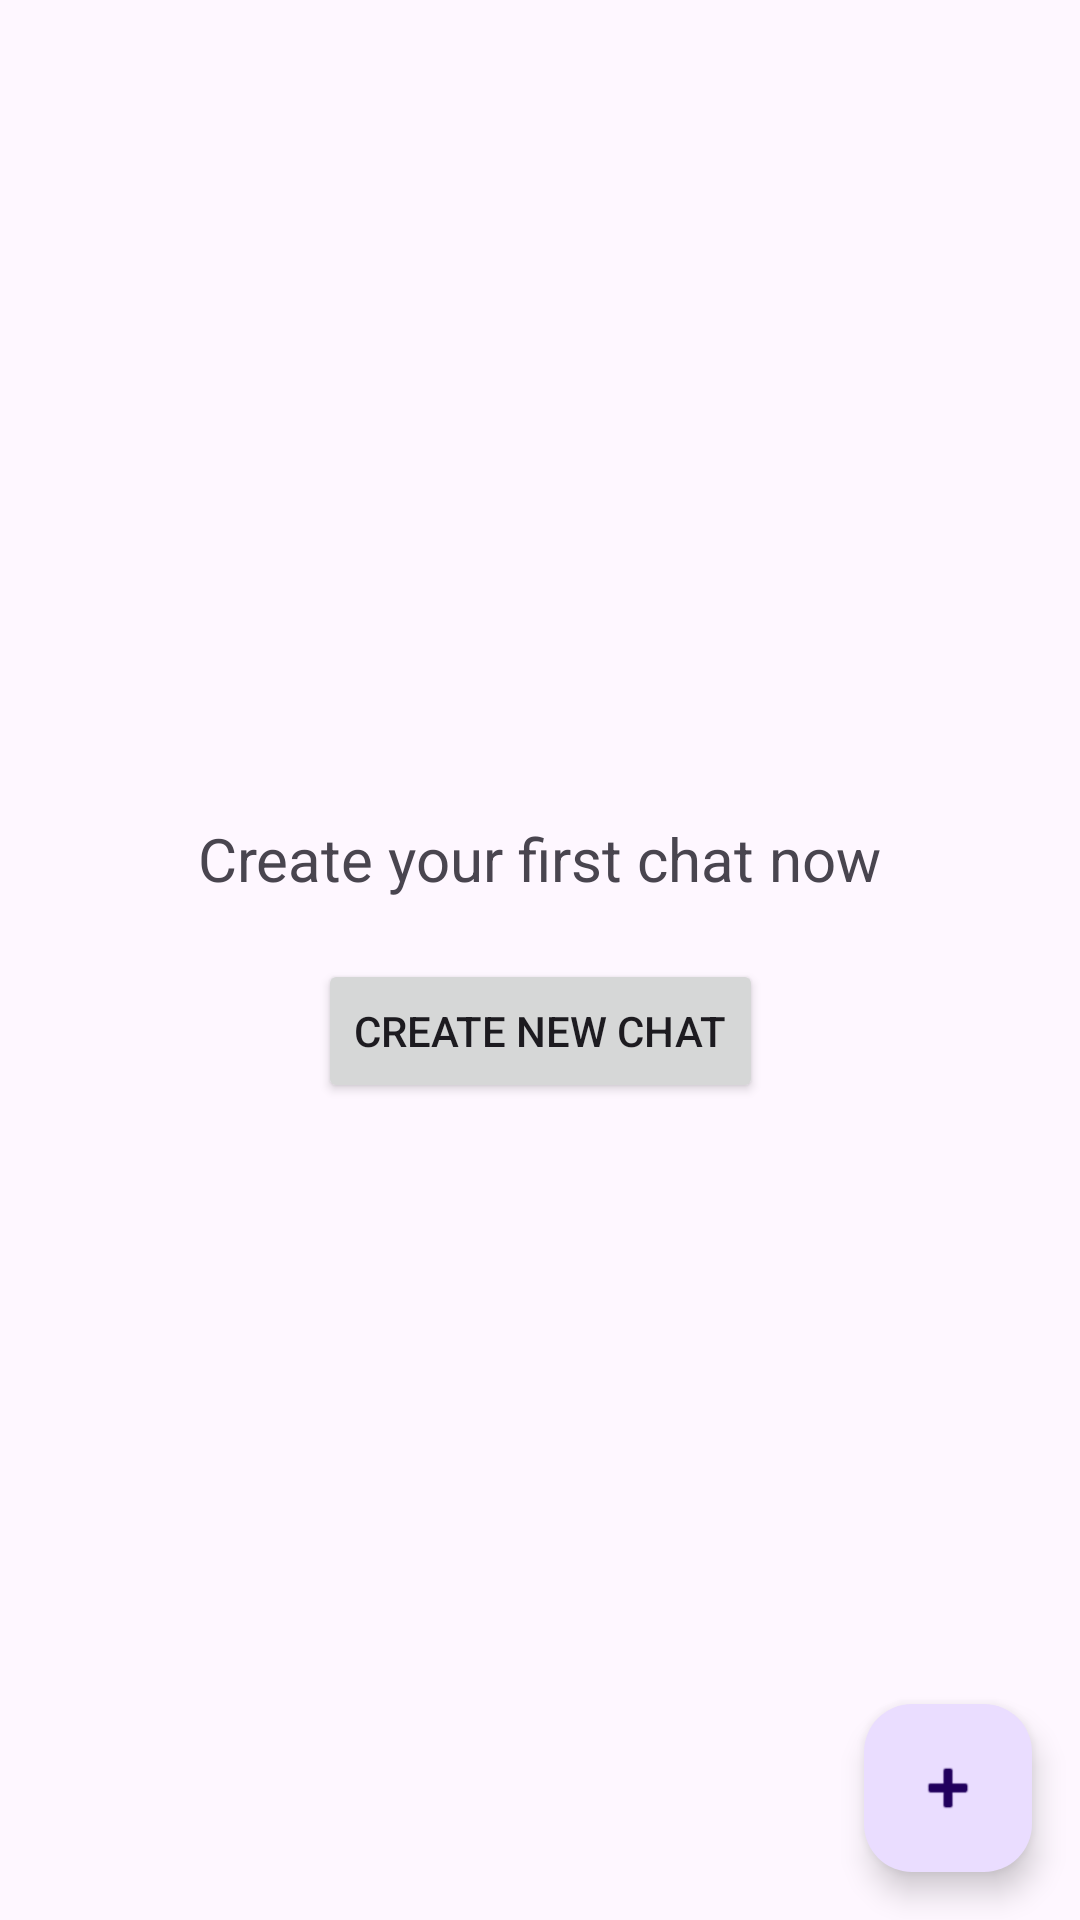

Icon click points for this 1080 x 1920 phone screenshot, format (x=x, y=y):
Create new chat: (x=948, y=1788)
